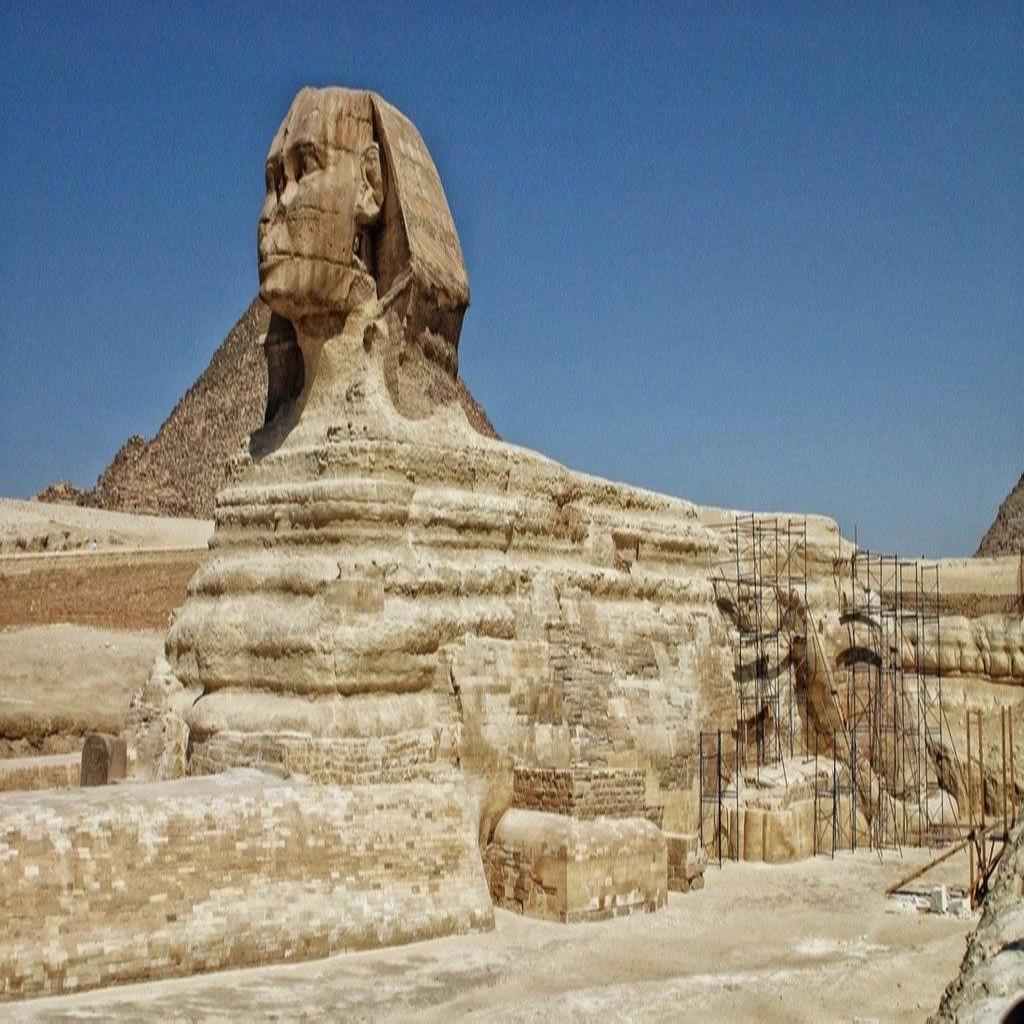Sphinx: (246, 82, 489, 456)
